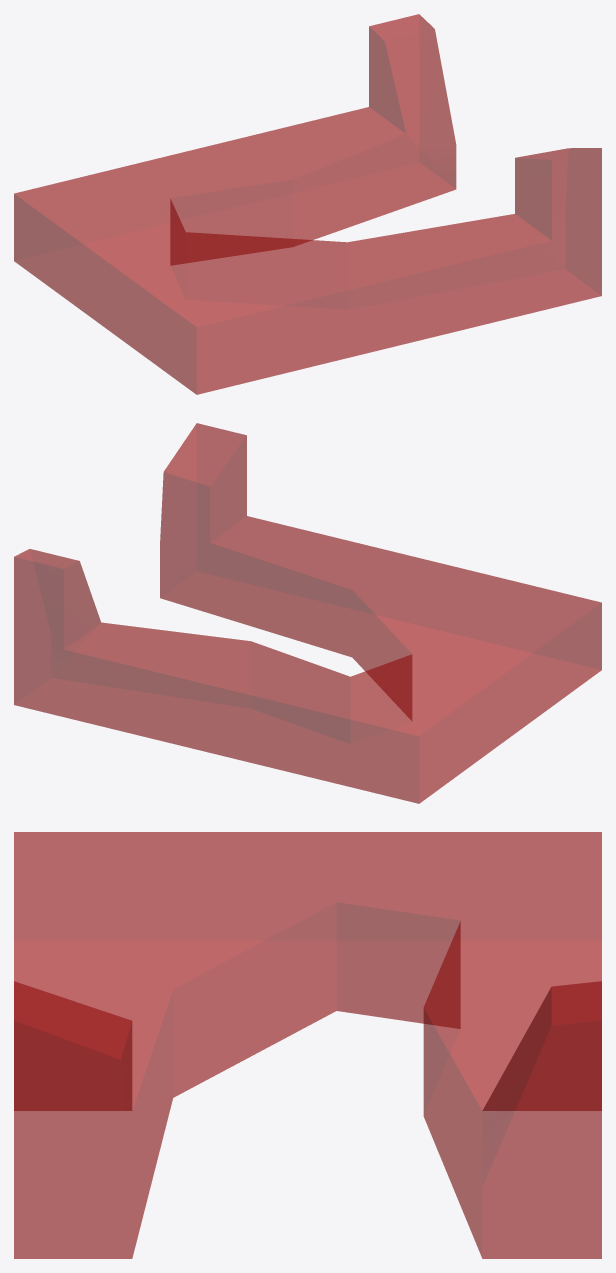
Rendered from SM_Env_Motorway_Edge_Destroyed_03_Collision.fbx.
3 renders of one model, top to bottom at view 1: azimuth 30°, elevation 25°; view 2: azimuth 150°, elevation 25°; view 3: azimuth 270°, elevation 25°, orthographic. The views are drawn at different scales.
Parts seen in each view (by area): view 1: SM_Env_Motorway_Edge_Destroyed_03_Collision; view 2: SM_Env_Motorway_Edge_Destroyed_03_Collision; view 3: SM_Env_Motorway_Edge_Destroyed_03_Collision.
Boxes of the visible parts, bbox=[...] form: SM_Env_Motorway_Edge_Destroyed_03_Collision: bbox=[14, 14, 601, 394]; SM_Env_Motorway_Edge_Destroyed_03_Collision: bbox=[14, 423, 601, 803]; SM_Env_Motorway_Edge_Destroyed_03_Collision: bbox=[14, 832, 601, 1258].
Bounding box in the file's own units: 640 × 224 × 500.
